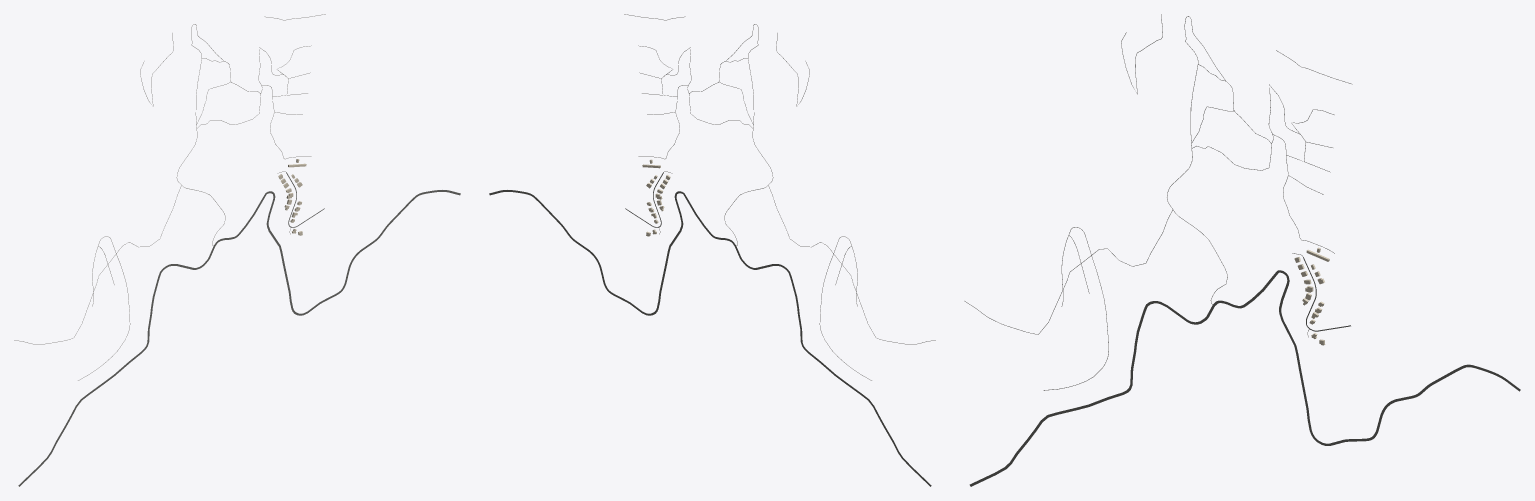
File: historic-palestine-14_33_3555_3272.glb
The picture shows the model from 3 angles, left to right: view 1: azimuth 30°, elevation 25°; view 2: azimuth 150°, elevation 25°; view 3: azimuth 330°, elevation 25°; orthographic projection. The views are drawn at different scales.
Visible parts, largest first — view 1: Road 767; view 2: Road 767; view 3: Road 767.
Boxes of the visible parts, <box> form: Road 767: <box>18,190,460,486</box>; Road 767: <box>489,190,931,486</box>; Road 767: <box>969,270,1520,486</box>.
Bounding box in the file's own units: 1894 × 1703 × 8.7.
